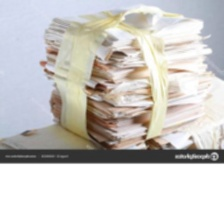news_paper: (36, 2, 214, 149)
